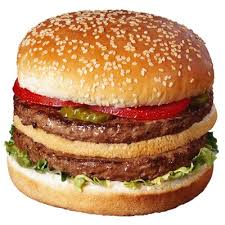hamburger: (5, 7, 220, 216)
